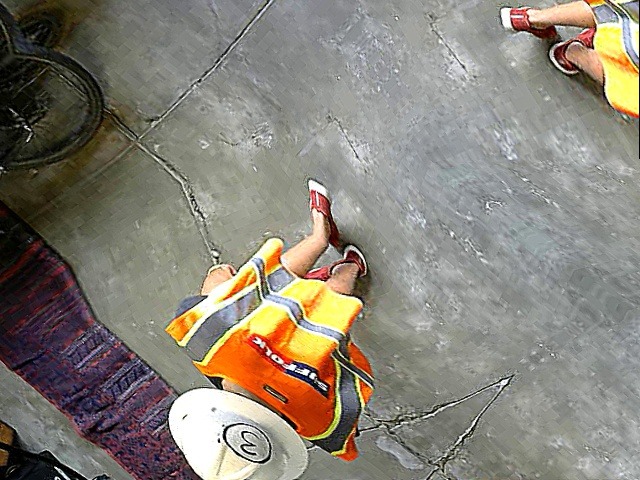three: (214, 417, 284, 467)
